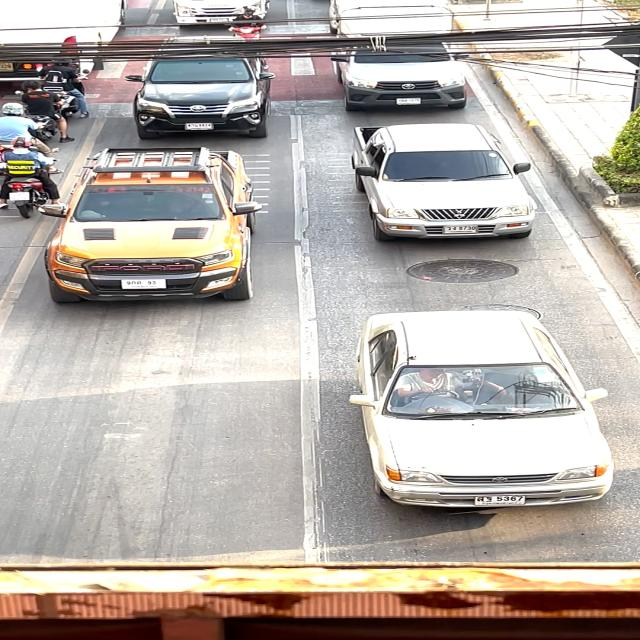car: (339, 308, 633, 510), (34, 143, 269, 308), (339, 119, 546, 246), (324, 0, 477, 113), (128, 41, 277, 141), (164, 0, 272, 30)
